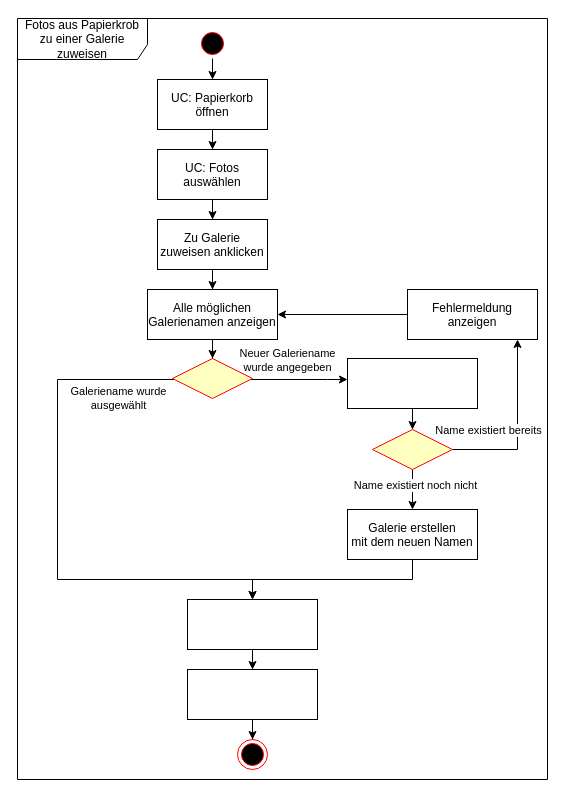
Some shapes in this 565 by 797 pixel diagram are drawn without their labels. The box of each missing label's shape, as (x1, y1, x2, y2) in pixels:
Alle Fotos zu der Galerie hinzufügen: (186, 598, 318, 650)
Fotos aus dem Papierkorb entfernen: (186, 668, 318, 720)
Galeriename validieren: (346, 358, 478, 408)
